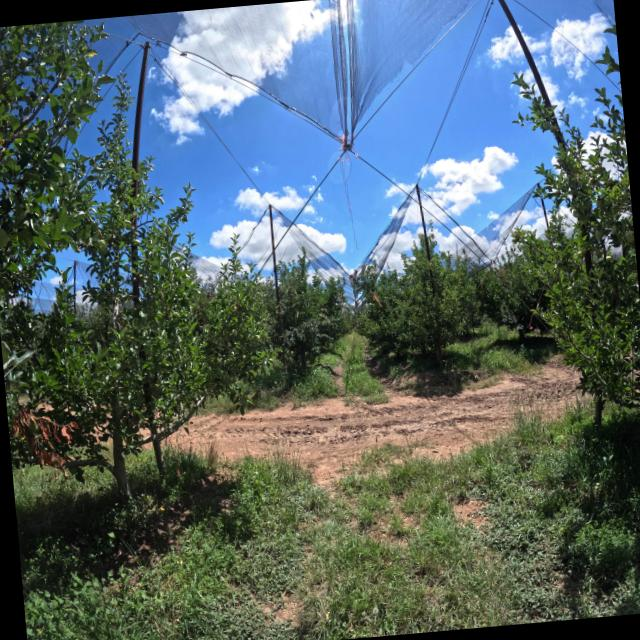-FireBlight-: (7, 400, 82, 487)
